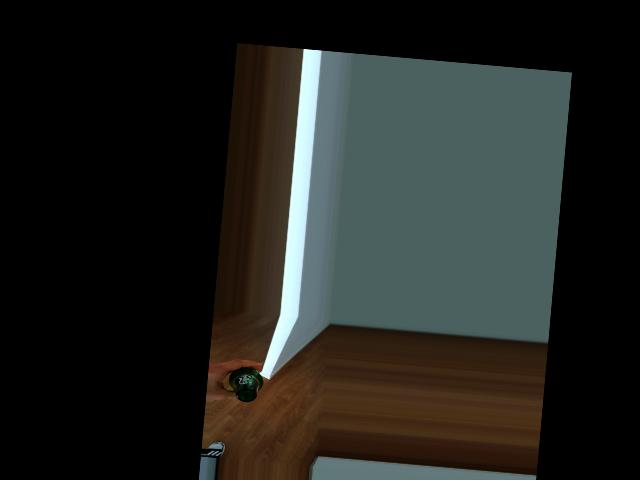beer: (226, 366, 264, 403)
